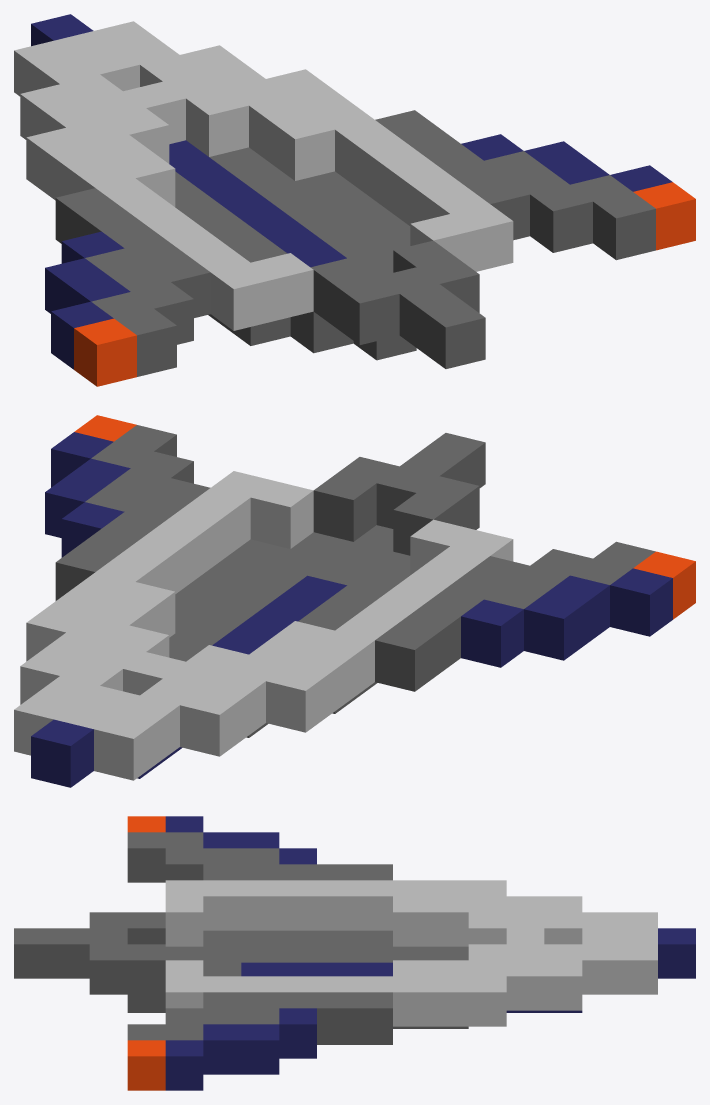
Rendered from speeder_1.glb.
The picture shows the model from 3 angles, top to bottom: view 1: azimuth 30°, elevation 25°; view 2: azimuth 150°, elevation 25°; view 3: azimuth 270°, elevation 25°; orthographic projection. The views are drawn at different scales.
Size of the model in its own units: 15 by 2 by 18.
